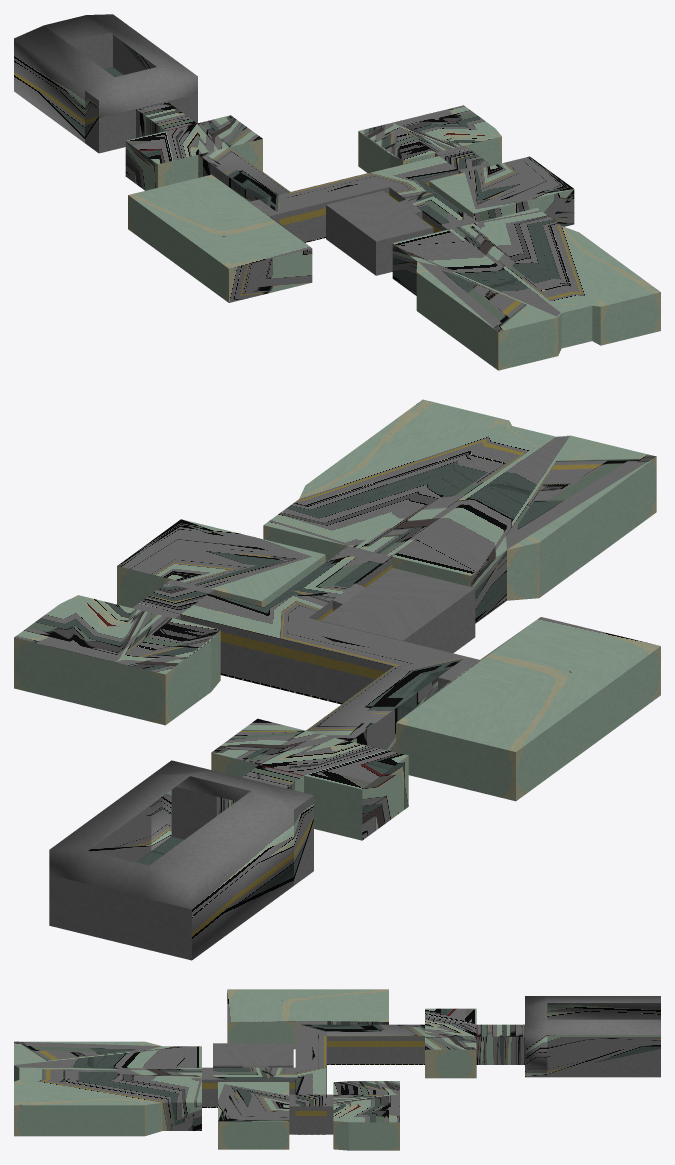
Rendered from bunker-collision.glb.
3 views of the same model, one above another, from view 1: azimuth 30°, elevation 25°; view 2: azimuth 150°, elevation 25°; view 3: azimuth 270°, elevation 25° (orthographic). The views are drawn at different scales.
Visible parts, largest first — view 1: bunker-walls; view 2: bunker-walls; view 3: bunker-walls.
Part boxes in pixels (x1=…): bunker-walls: x1=14, y1=14, x2=660, y2=370; bunker-walls: x1=14, y1=399, x2=660, y2=960; bunker-walls: x1=14, y1=989, x2=660, y2=1150.
Size of the model in its own units: 32.97 by 5.71 by 67.33.
Materials: 1 (1 with a texture image).
